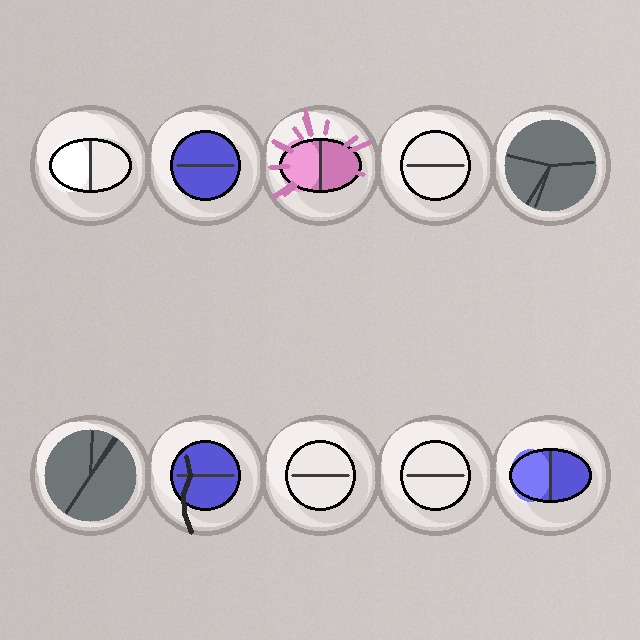crack: (143, 413, 267, 537)
empty: (488, 103, 612, 227), (28, 413, 152, 537)
flash: (258, 103, 382, 227)
